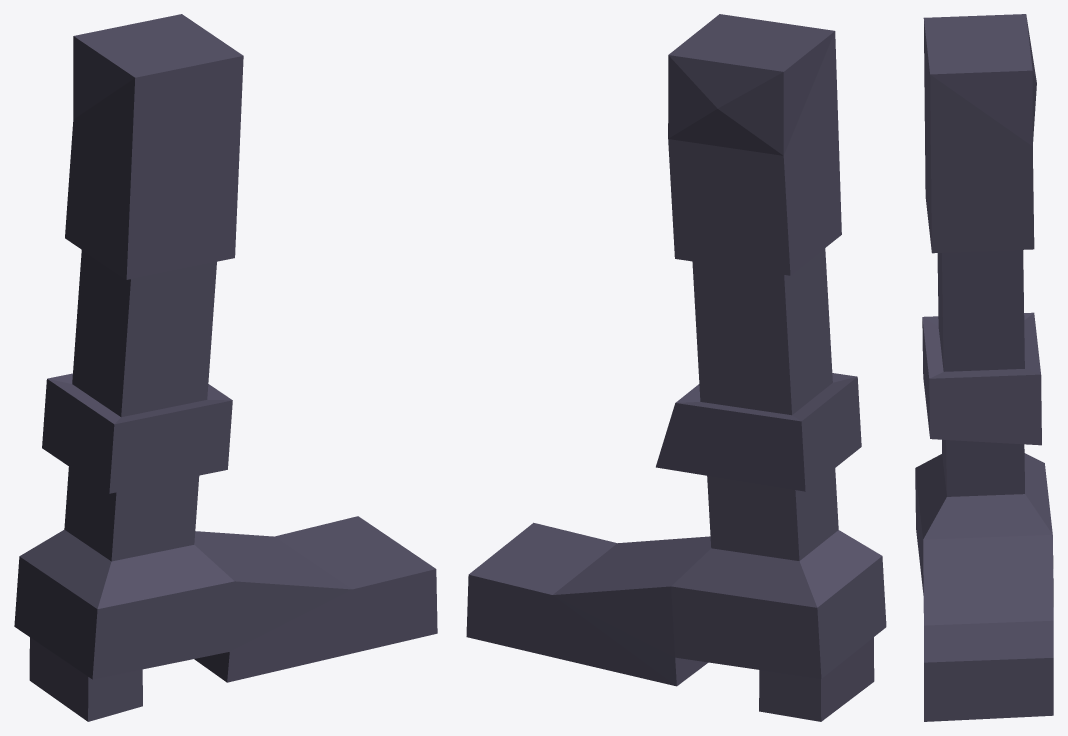
The model's file is Robo-KnightRightFeet.fbx.
3 views of the same model, side by side, from view 1: azimuth 30°, elevation 25°; view 2: azimuth 150°, elevation 25°; view 3: azimuth 270°, elevation 25° (orthographic). The views are drawn at different scales.
Visible parts, largest first — view 1: polySurface514; view 2: polySurface514; view 3: polySurface514.
Boxes of the visible parts, x1,y1,x2,y2 form: polySurface514: (14, 14, 437, 721); polySurface514: (466, 14, 886, 721); polySurface514: (915, 14, 1053, 721).
Size of the model in its own units: 118 by 203 by 43.96.
